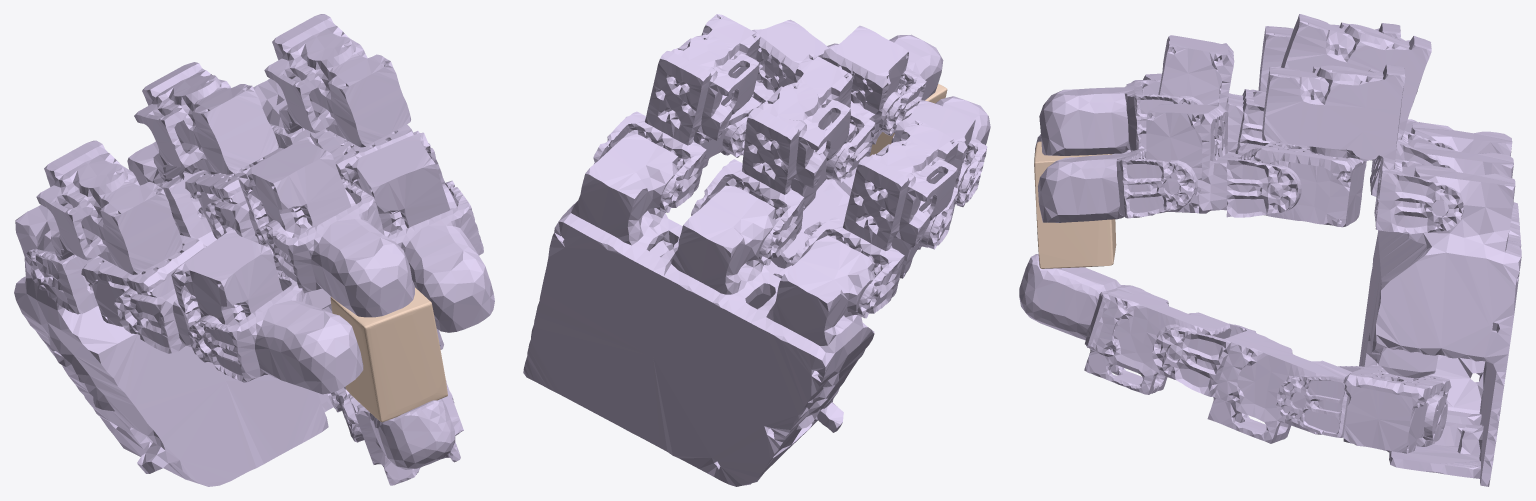
Rendered from 71c6c6abed2b12-final.glb.
3 renders of one model, left to right at view 1: azimuth 30°, elevation 25°; view 2: azimuth 150°, elevation 25°; view 3: azimuth 270°, elevation 25°, orthographic. The views are drawn at different scales.
Parts seen in each view (by area): view 1: LEAP_hand, world; view 2: LEAP_hand, world; view 3: LEAP_hand, world.
Part boxes in pixels (<box>): LEAP_hand: <box>14,14,494,486</box>; world: <box>330,287,447,422</box>; LEAP_hand: <box>523,14,990,486</box>; world: <box>855,84,947,174</box>; LEAP_hand: <box>1019,14,1521,486</box>; world: <box>1034,141,1116,268</box>.
Bounding box in the file's own units: 0.1584 × 0.1602 × 0.171.
